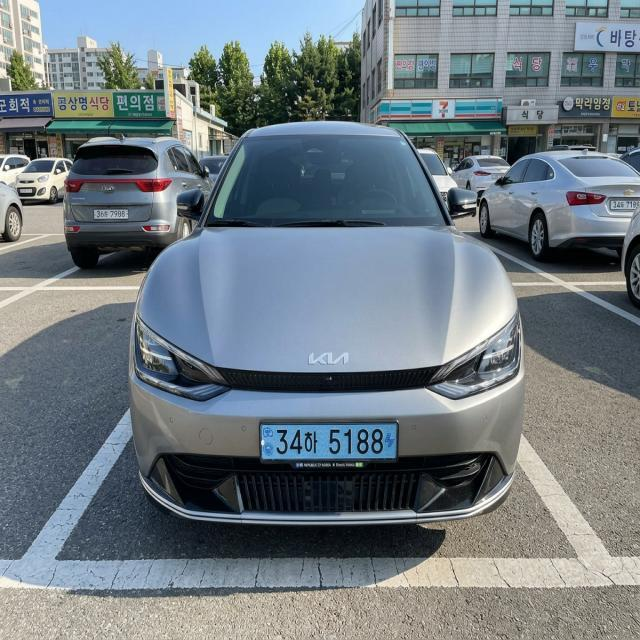car: (249, 411, 409, 472)
carev: (259, 425, 277, 463), (384, 423, 398, 458)
